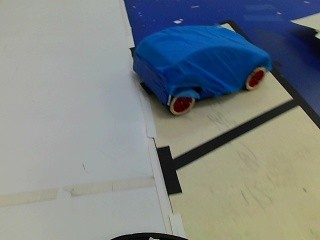car: (125, 26, 276, 115)
